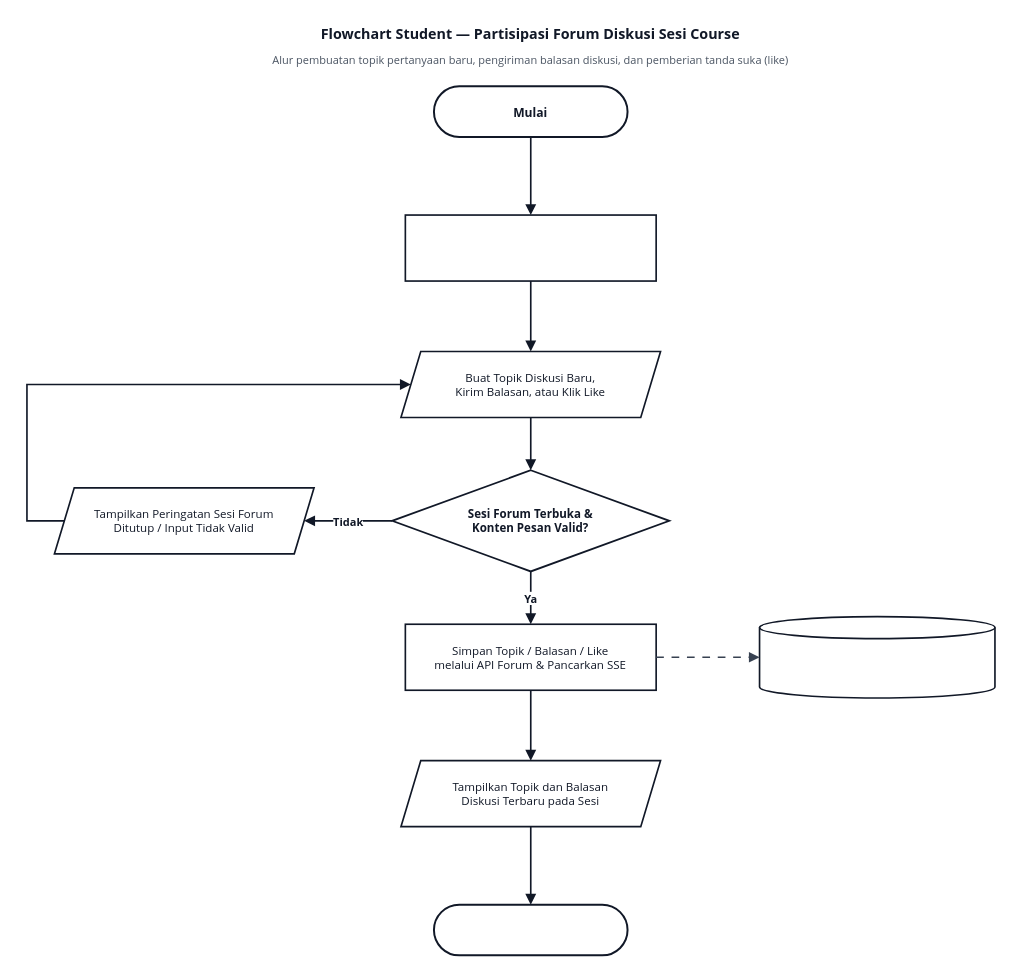
Image size: 1015x975. Some labels were removed from this diagram. Here are the shapes that lost their labels. From the top down, the centre of each, then its label:
[530,247]: Buka Tab Forum pada Detail Course & Pilih Sesi Pertemuan
[876,656]: SQL Server: forum_threads, forum_replies & forum_likes
[530,929]: Selesai
